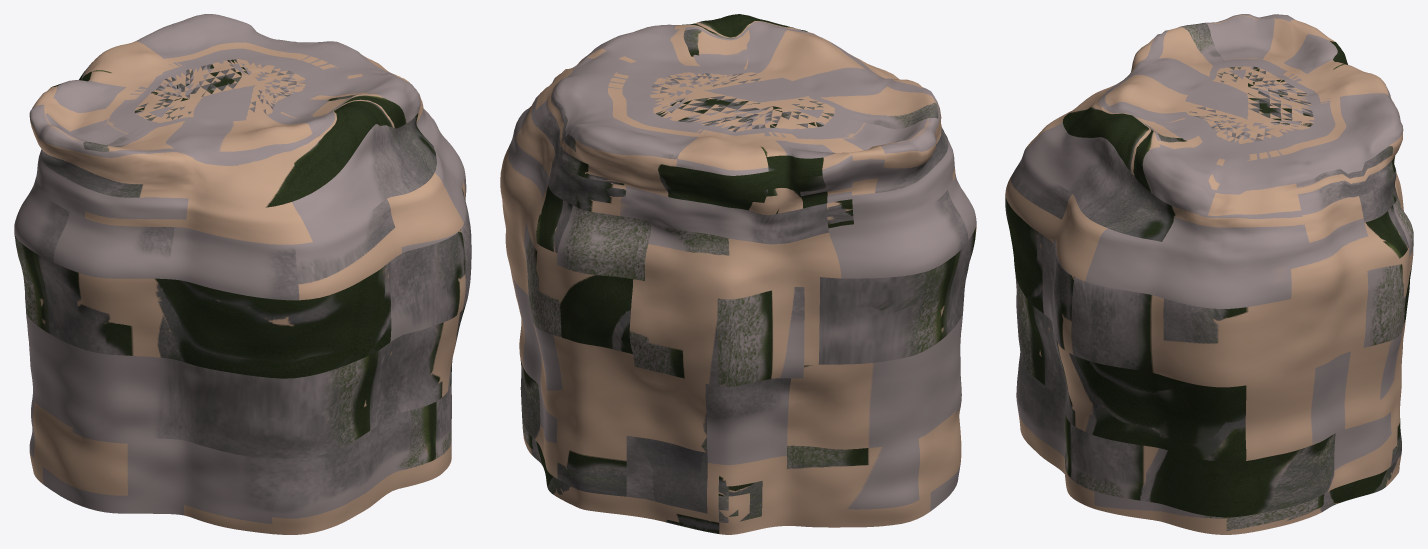
Rendered from SM_Island4.1_L.fbx.
3 renders of one model, left to right at view 1: azimuth 30°, elevation 25°; view 2: azimuth 150°, elevation 25°; view 3: azimuth 270°, elevation 25°, orthographic. The views are drawn at different scales.
Parts seen in each view (by area): view 1: Line009; view 2: Line009; view 3: Line009.
Part boxes in pixels (box(x1,y1,x2,y2)): Line009: box(14, 14, 471, 534); Line009: box(500, 14, 976, 534); Line009: box(1005, 14, 1413, 534).
Bounding box in the file's own units: 2009 × 1664 × 1760.
